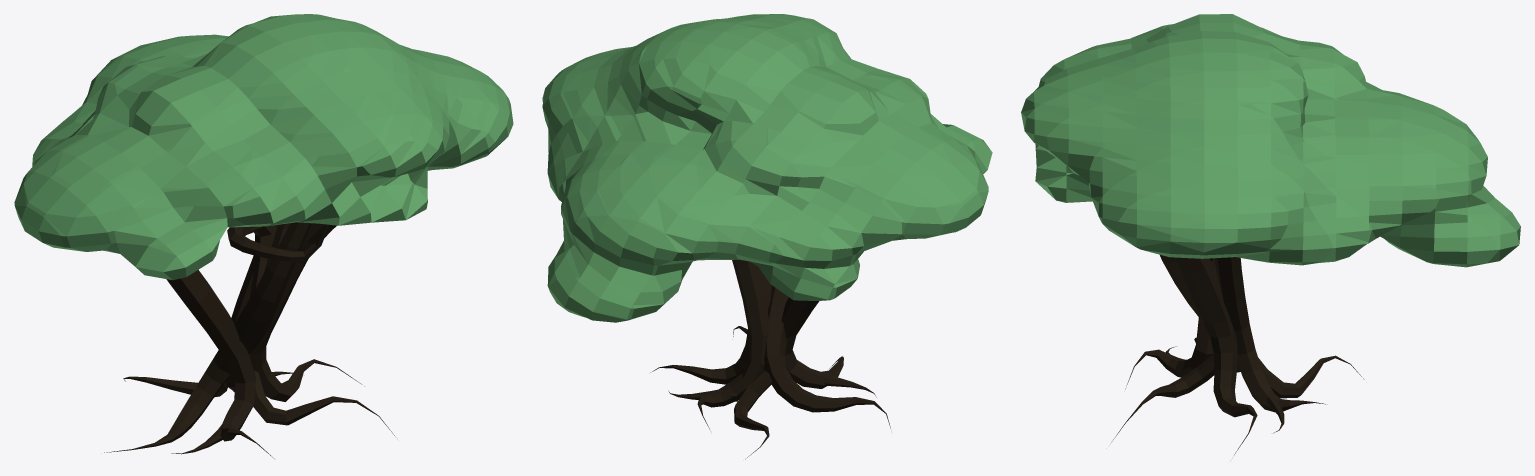
File: OakTree1.fbx
The picture shows the model from 3 angles, left to right: view 1: azimuth 30°, elevation 25°; view 2: azimuth 150°, elevation 25°; view 3: azimuth 270°, elevation 25°; orthographic projection. The views are drawn at different scales.
Visible parts, largest first — view 1: NurbsPath; view 2: NurbsPath; view 3: NurbsPath.
Boxes of the visible parts, box(x1,y1,x2,y2) form: NurbsPath: box(14, 14, 513, 458); NurbsPath: box(542, 14, 992, 459); NurbsPath: box(1021, 14, 1520, 454).
Size of the model in its own units: 636 by 501 by 597.
